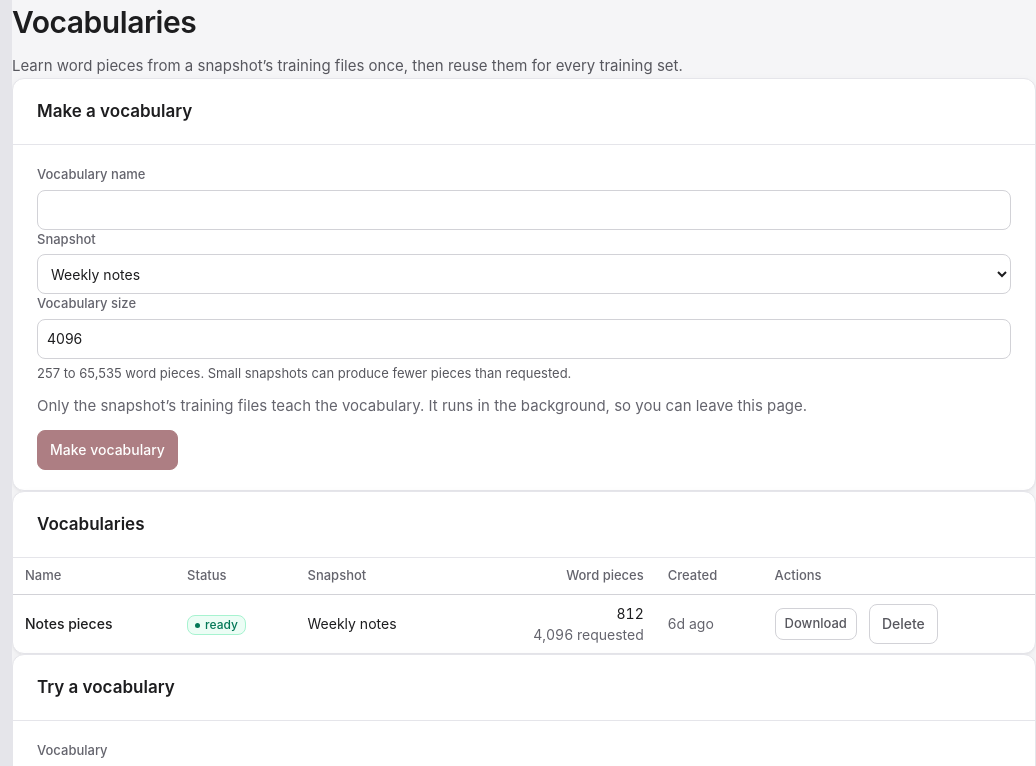
Test: asks before deleting and shows why a delete was refused
The width and height of the screenshot is (1036, 766).
Click the button "Delete" at (903, 624), box top-left (869, 604), bottom-right (938, 644)
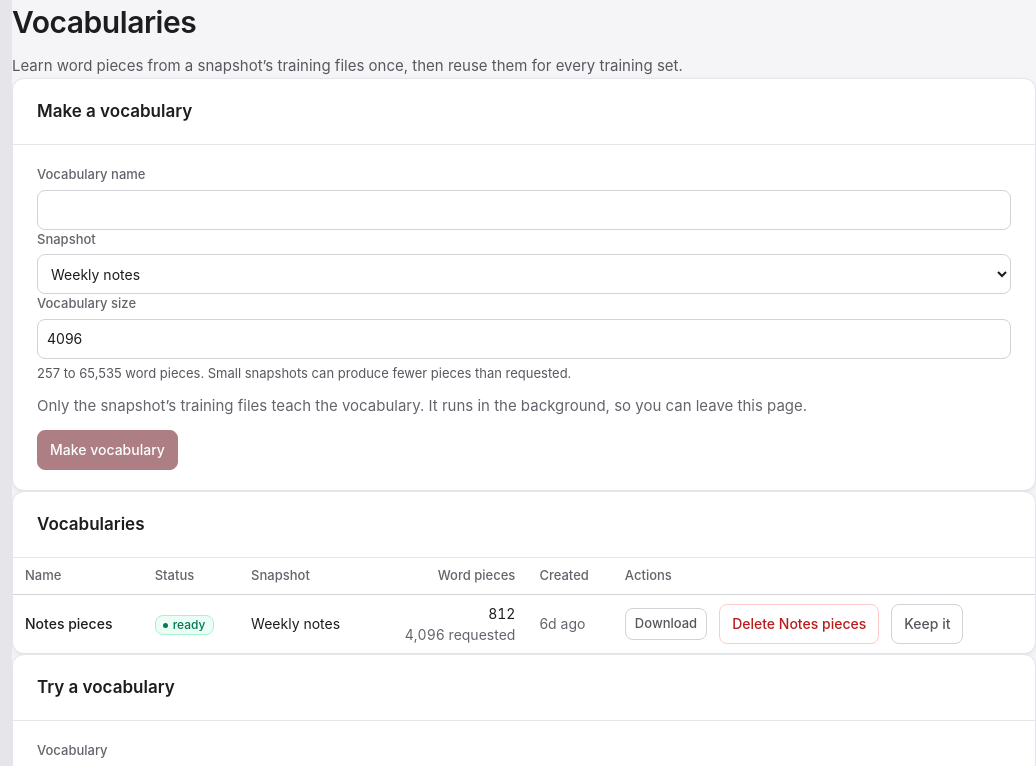
Click the button "Delete Notes pieces" at (799, 624), box top-left (719, 604), bottom-right (879, 644)
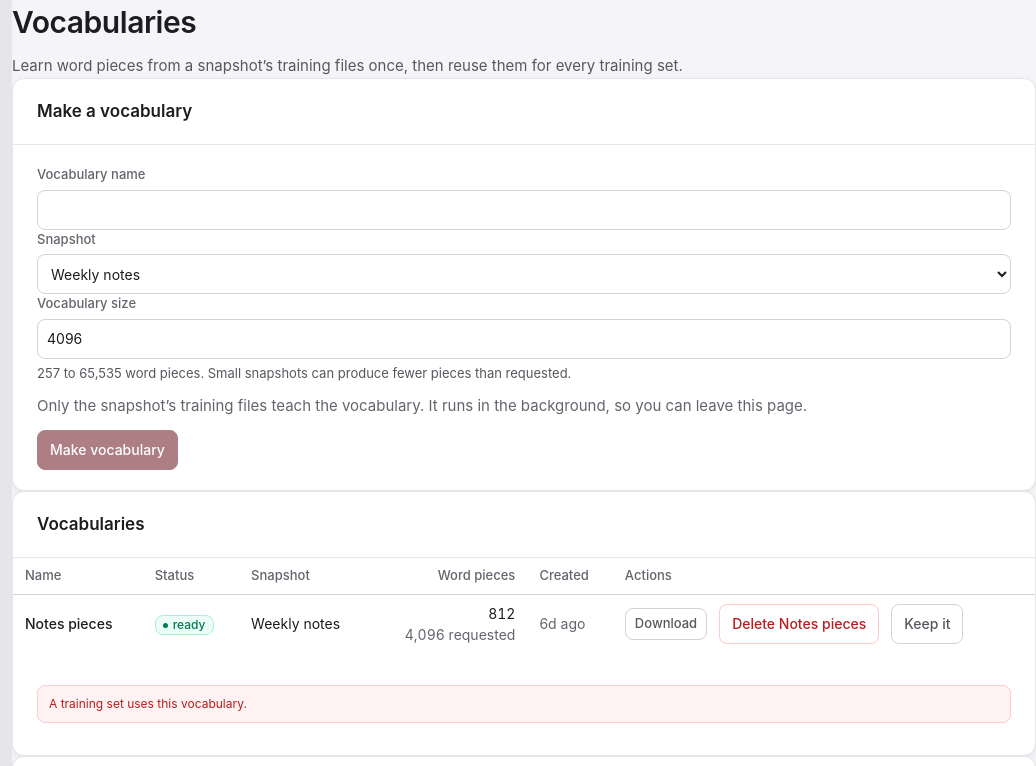
Check: the text "A training set uses this vocabulary." is shown, box top-left (37, 684), bottom-right (1011, 722)
